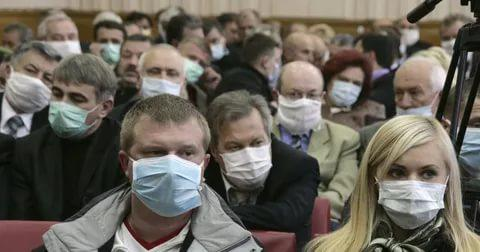mask: (136, 125, 205, 213), (379, 140, 449, 219), (220, 119, 271, 184), (53, 72, 104, 132), (3, 52, 54, 112), (277, 66, 323, 131), (140, 51, 182, 104), (43, 20, 81, 63), (327, 62, 363, 107), (182, 41, 209, 84), (96, 27, 125, 59)
none: (117, 44, 146, 82)
poor: (393, 69, 435, 117)
